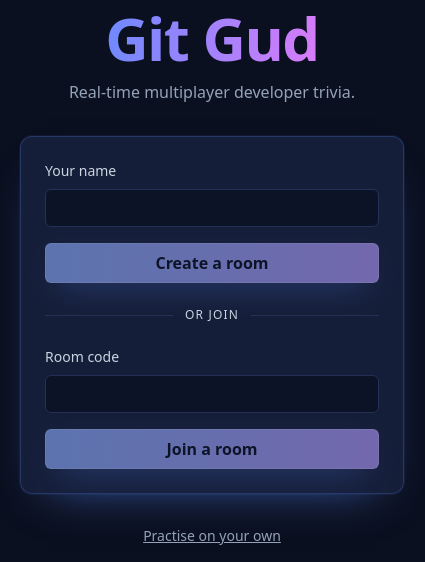
it: lobby screen › creates a room and moves into it
Type "Alex" into the field labelled "Your name".
click(212, 208); type("Alex")  # box [45,189,379,227]
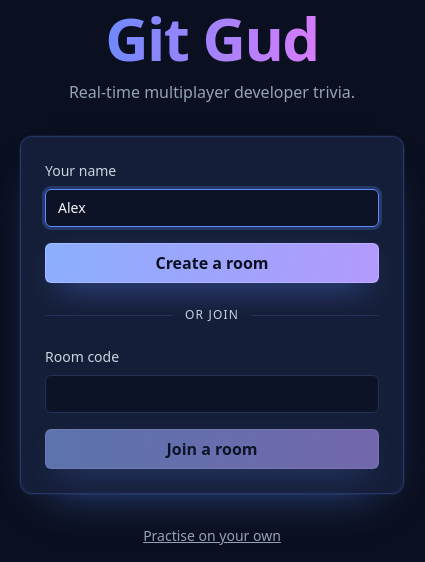
Click the button "Create a room".
click(212, 263)  # box [45,243,379,283]
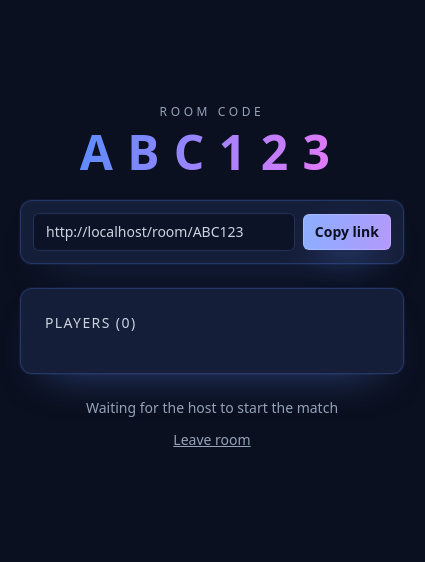
Check: the heading "ABC123" is shown, box [80,128,344,176]
